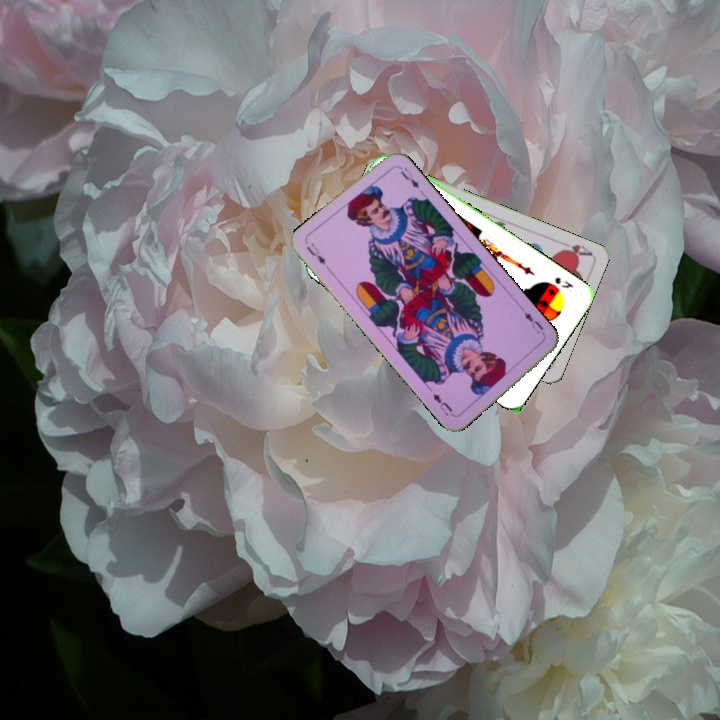EU: (520, 308, 548, 339), (302, 239, 328, 268)
HA: (556, 240, 594, 260)
SK: (551, 273, 576, 291)
